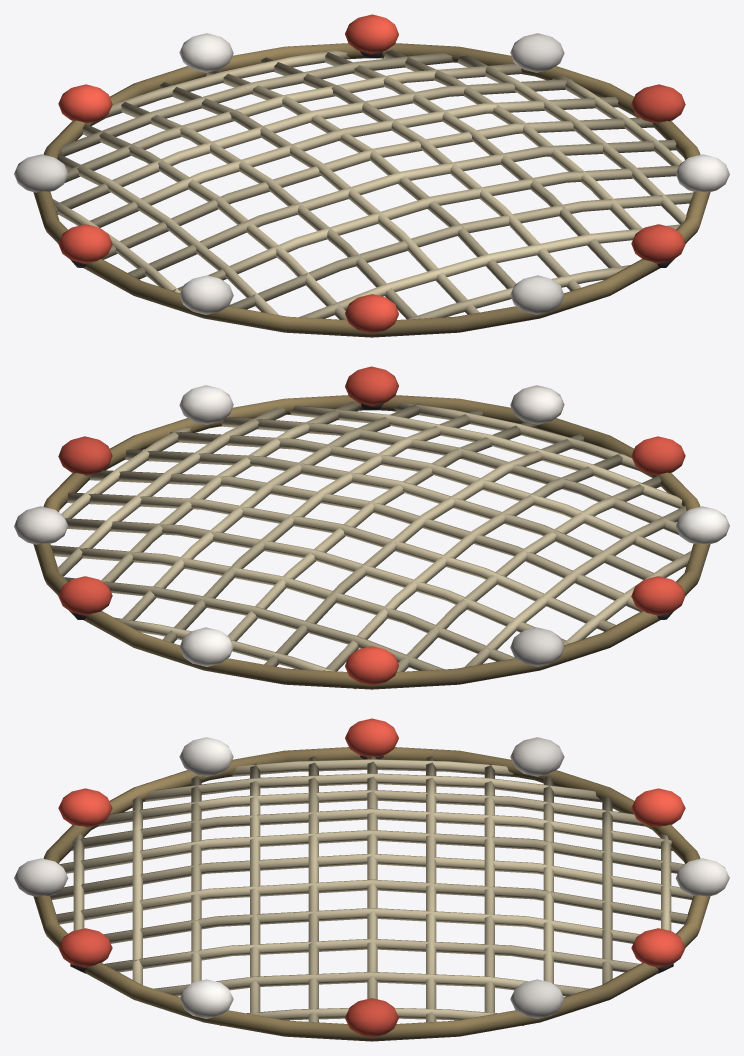
File: red.glb
The picture shows the model from 3 angles, top to bottom: view 1: azimuth 30°, elevation 25°; view 2: azimuth 150°, elevation 25°; view 3: azimuth 270°, elevation 25°; orthographic projection.
Parts seen in each view (by area): view 1: Net, Floats; view 2: Net, Floats; view 3: Net, Floats.
Part boxes in pixels (x1,y1,x2,y2): Net: (33, 43, 710, 337); Floats: (14, 14, 729, 333); Net: (33, 395, 710, 689); Floats: (14, 366, 729, 685); Net: (33, 747, 710, 1041); Floats: (14, 718, 729, 1037).
Bounding box in the file's own units: 1 × 0.0736 × 1.
